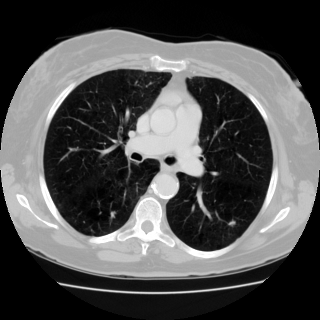nodule: (228, 219, 236, 227)
